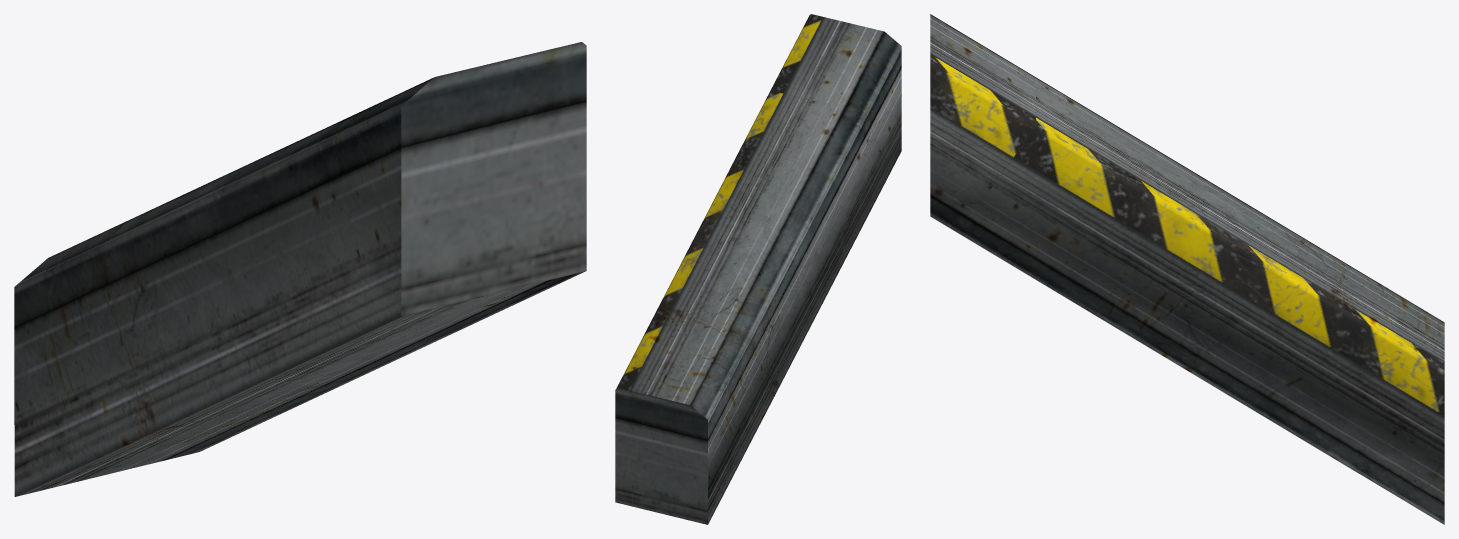
Rendered from Edges_02.fbx.
3 renders of one model, left to right at view 1: azimuth 30°, elevation 25°; view 2: azimuth 150°, elevation 25°; view 3: azimuth 270°, elevation 25°, orthographic. The views are drawn at different scales.
Parts seen in each view (by area): view 1: Edges_02; view 2: Edges_02; view 3: Edges_02.
Boxes of the visible parts, bbox=[...] form: Edges_02: bbox=[14, 42, 586, 496]; Edges_02: bbox=[615, 14, 901, 524]; Edges_02: bbox=[930, 14, 1444, 524].
Bounding box in the file's own units: 27.63 × 99.12 × 100.
Materials: 1 (1 with a texture image).
